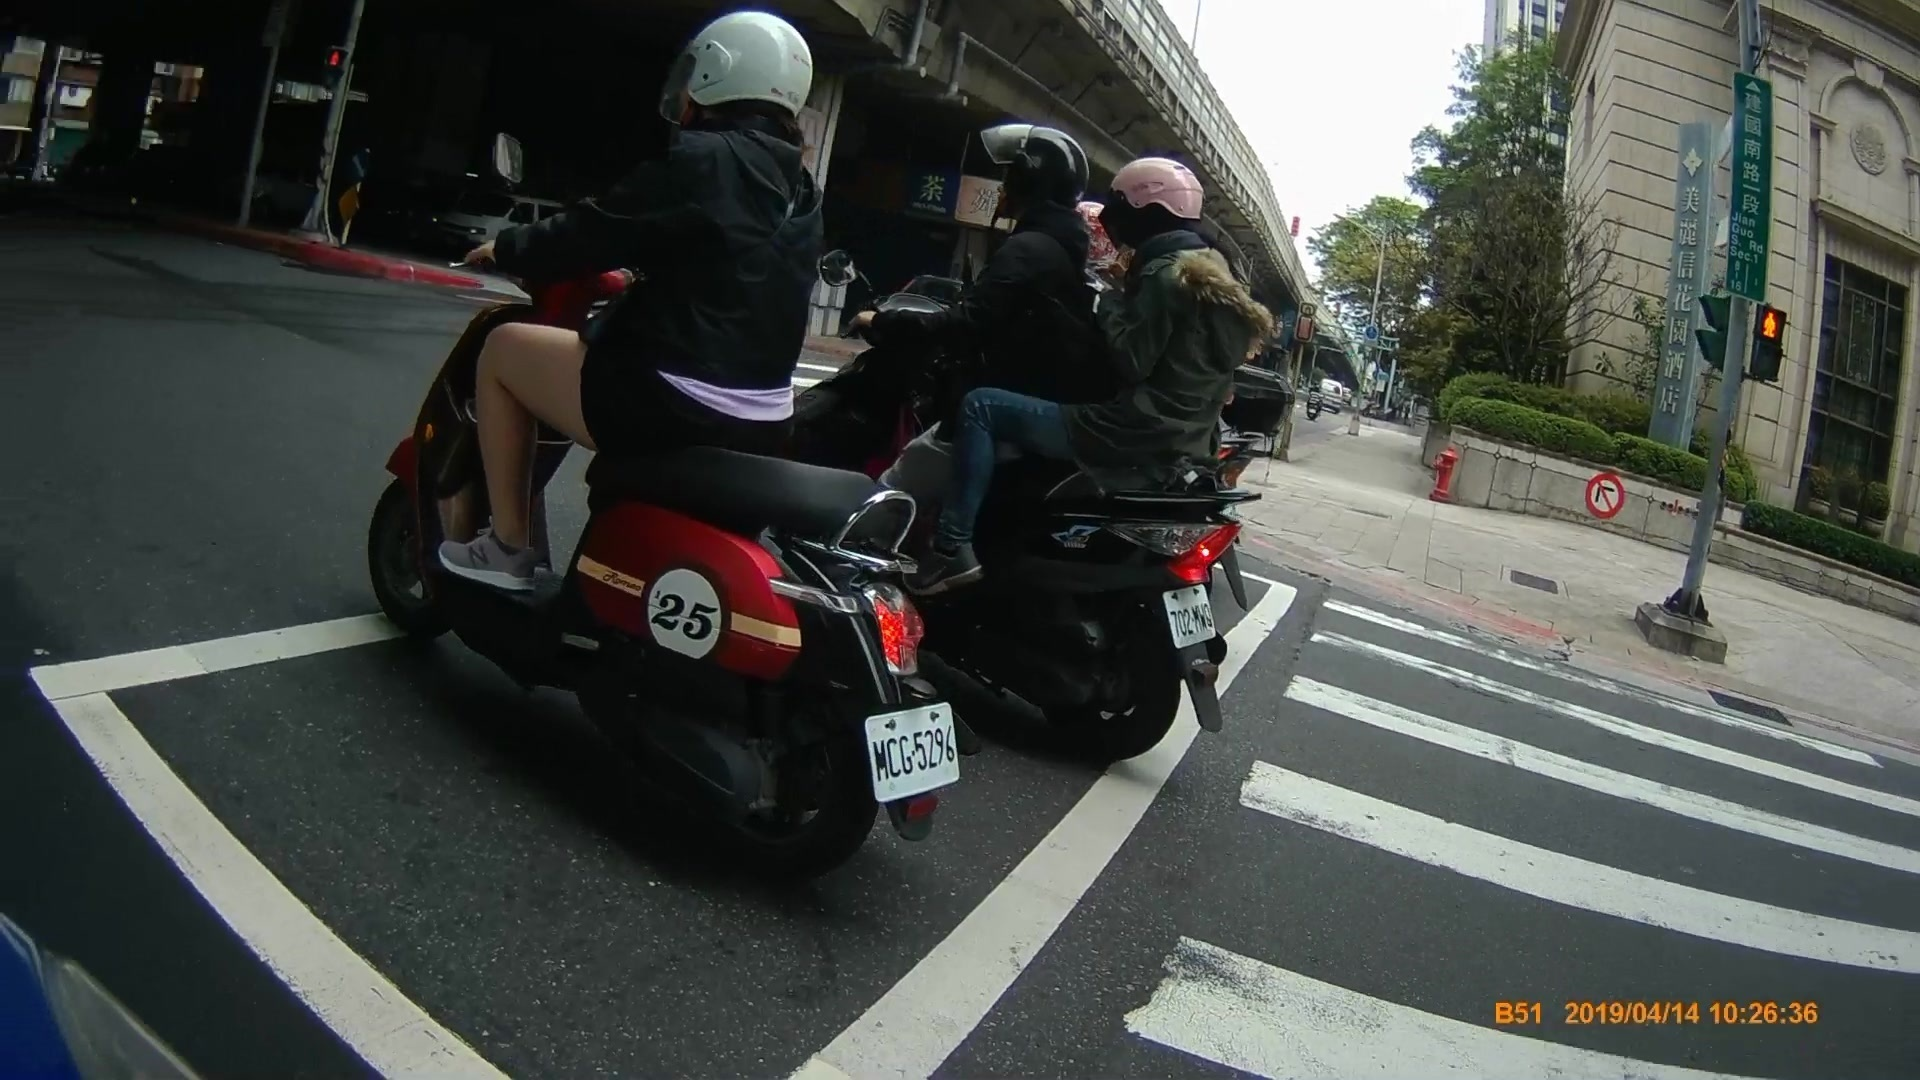License_plate: (861, 705, 965, 791), (1158, 580, 1225, 647)
